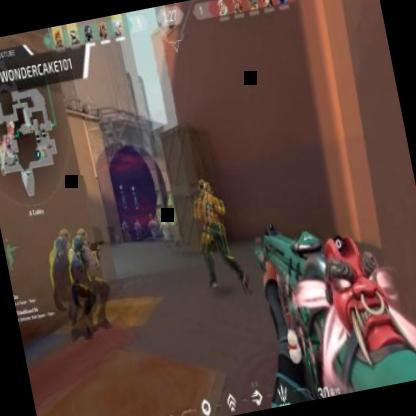enemy: (186, 178, 250, 299), (64, 230, 112, 342), (119, 214, 136, 250), (144, 211, 160, 242), (131, 213, 142, 240)
enemy_head: (198, 178, 212, 196), (75, 226, 89, 243), (147, 212, 153, 221), (123, 218, 126, 222), (136, 219, 138, 223)
